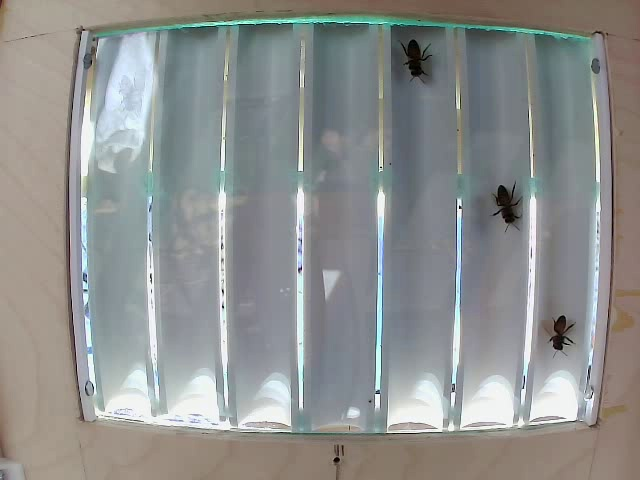bee: (388, 24, 437, 89), (489, 170, 521, 231), (546, 294, 579, 349)
